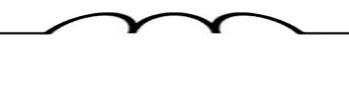inductor: (42, 5, 304, 56)
